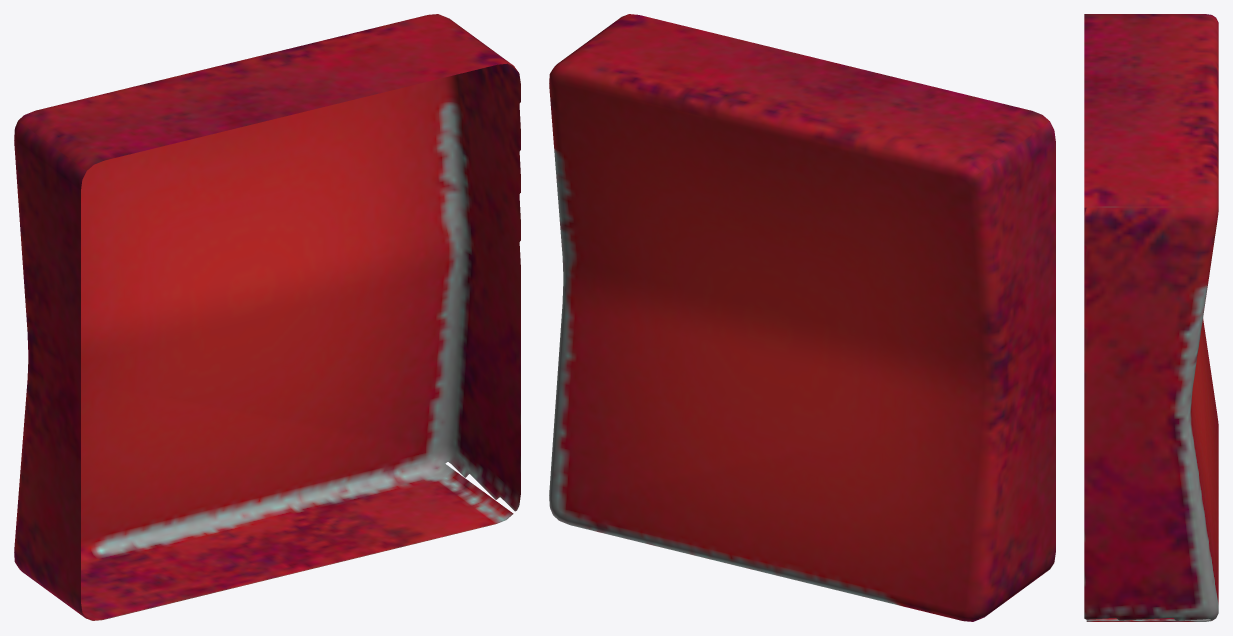
File: Line9_Subway_a_Button.FBX
3 views of the same model, side by side, from view 1: azimuth 30°, elevation 25°; view 2: azimuth 150°, elevation 25°; view 3: azimuth 270°, elevation 25° (orthographic). The views are drawn at different scales.
Parts seen in each view (by area): view 1: Line9_Subway_a_Button; view 2: Line9_Subway_a_Button; view 3: Line9_Subway_a_Button.
Part boxes in pixels (x1,y1,x2,y2): Line9_Subway_a_Button: (14, 14, 520, 620); Line9_Subway_a_Button: (549, 14, 1055, 621); Line9_Subway_a_Button: (1084, 14, 1218, 621).
Bounding box in the file's own units: 9.4 × 2.7 × 9.4.
